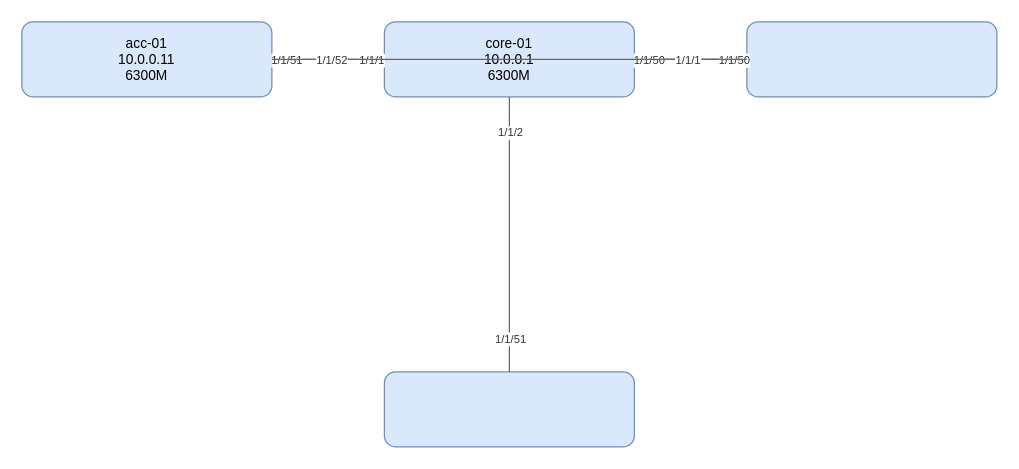
Image size: 1019x469. Some labels were removed from this diagram. The centre of each missing label's shape, as x and y in pixels:
acc-02 10.0.0.12 6300M: the point at 508,409
core-02 10.0.0.2 6300M: the point at 871,59
